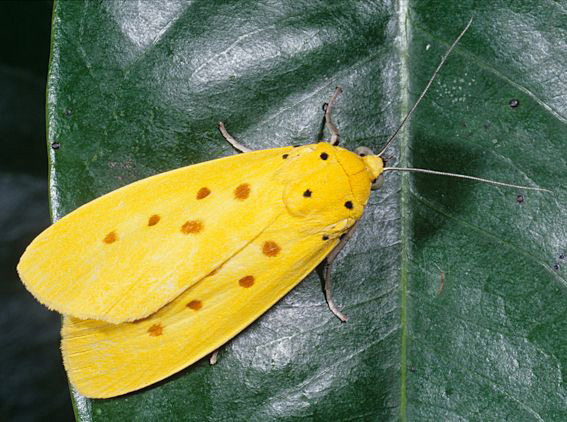Agape chloropyga: (15, 15, 553, 403)
moth: (17, 17, 555, 405)
